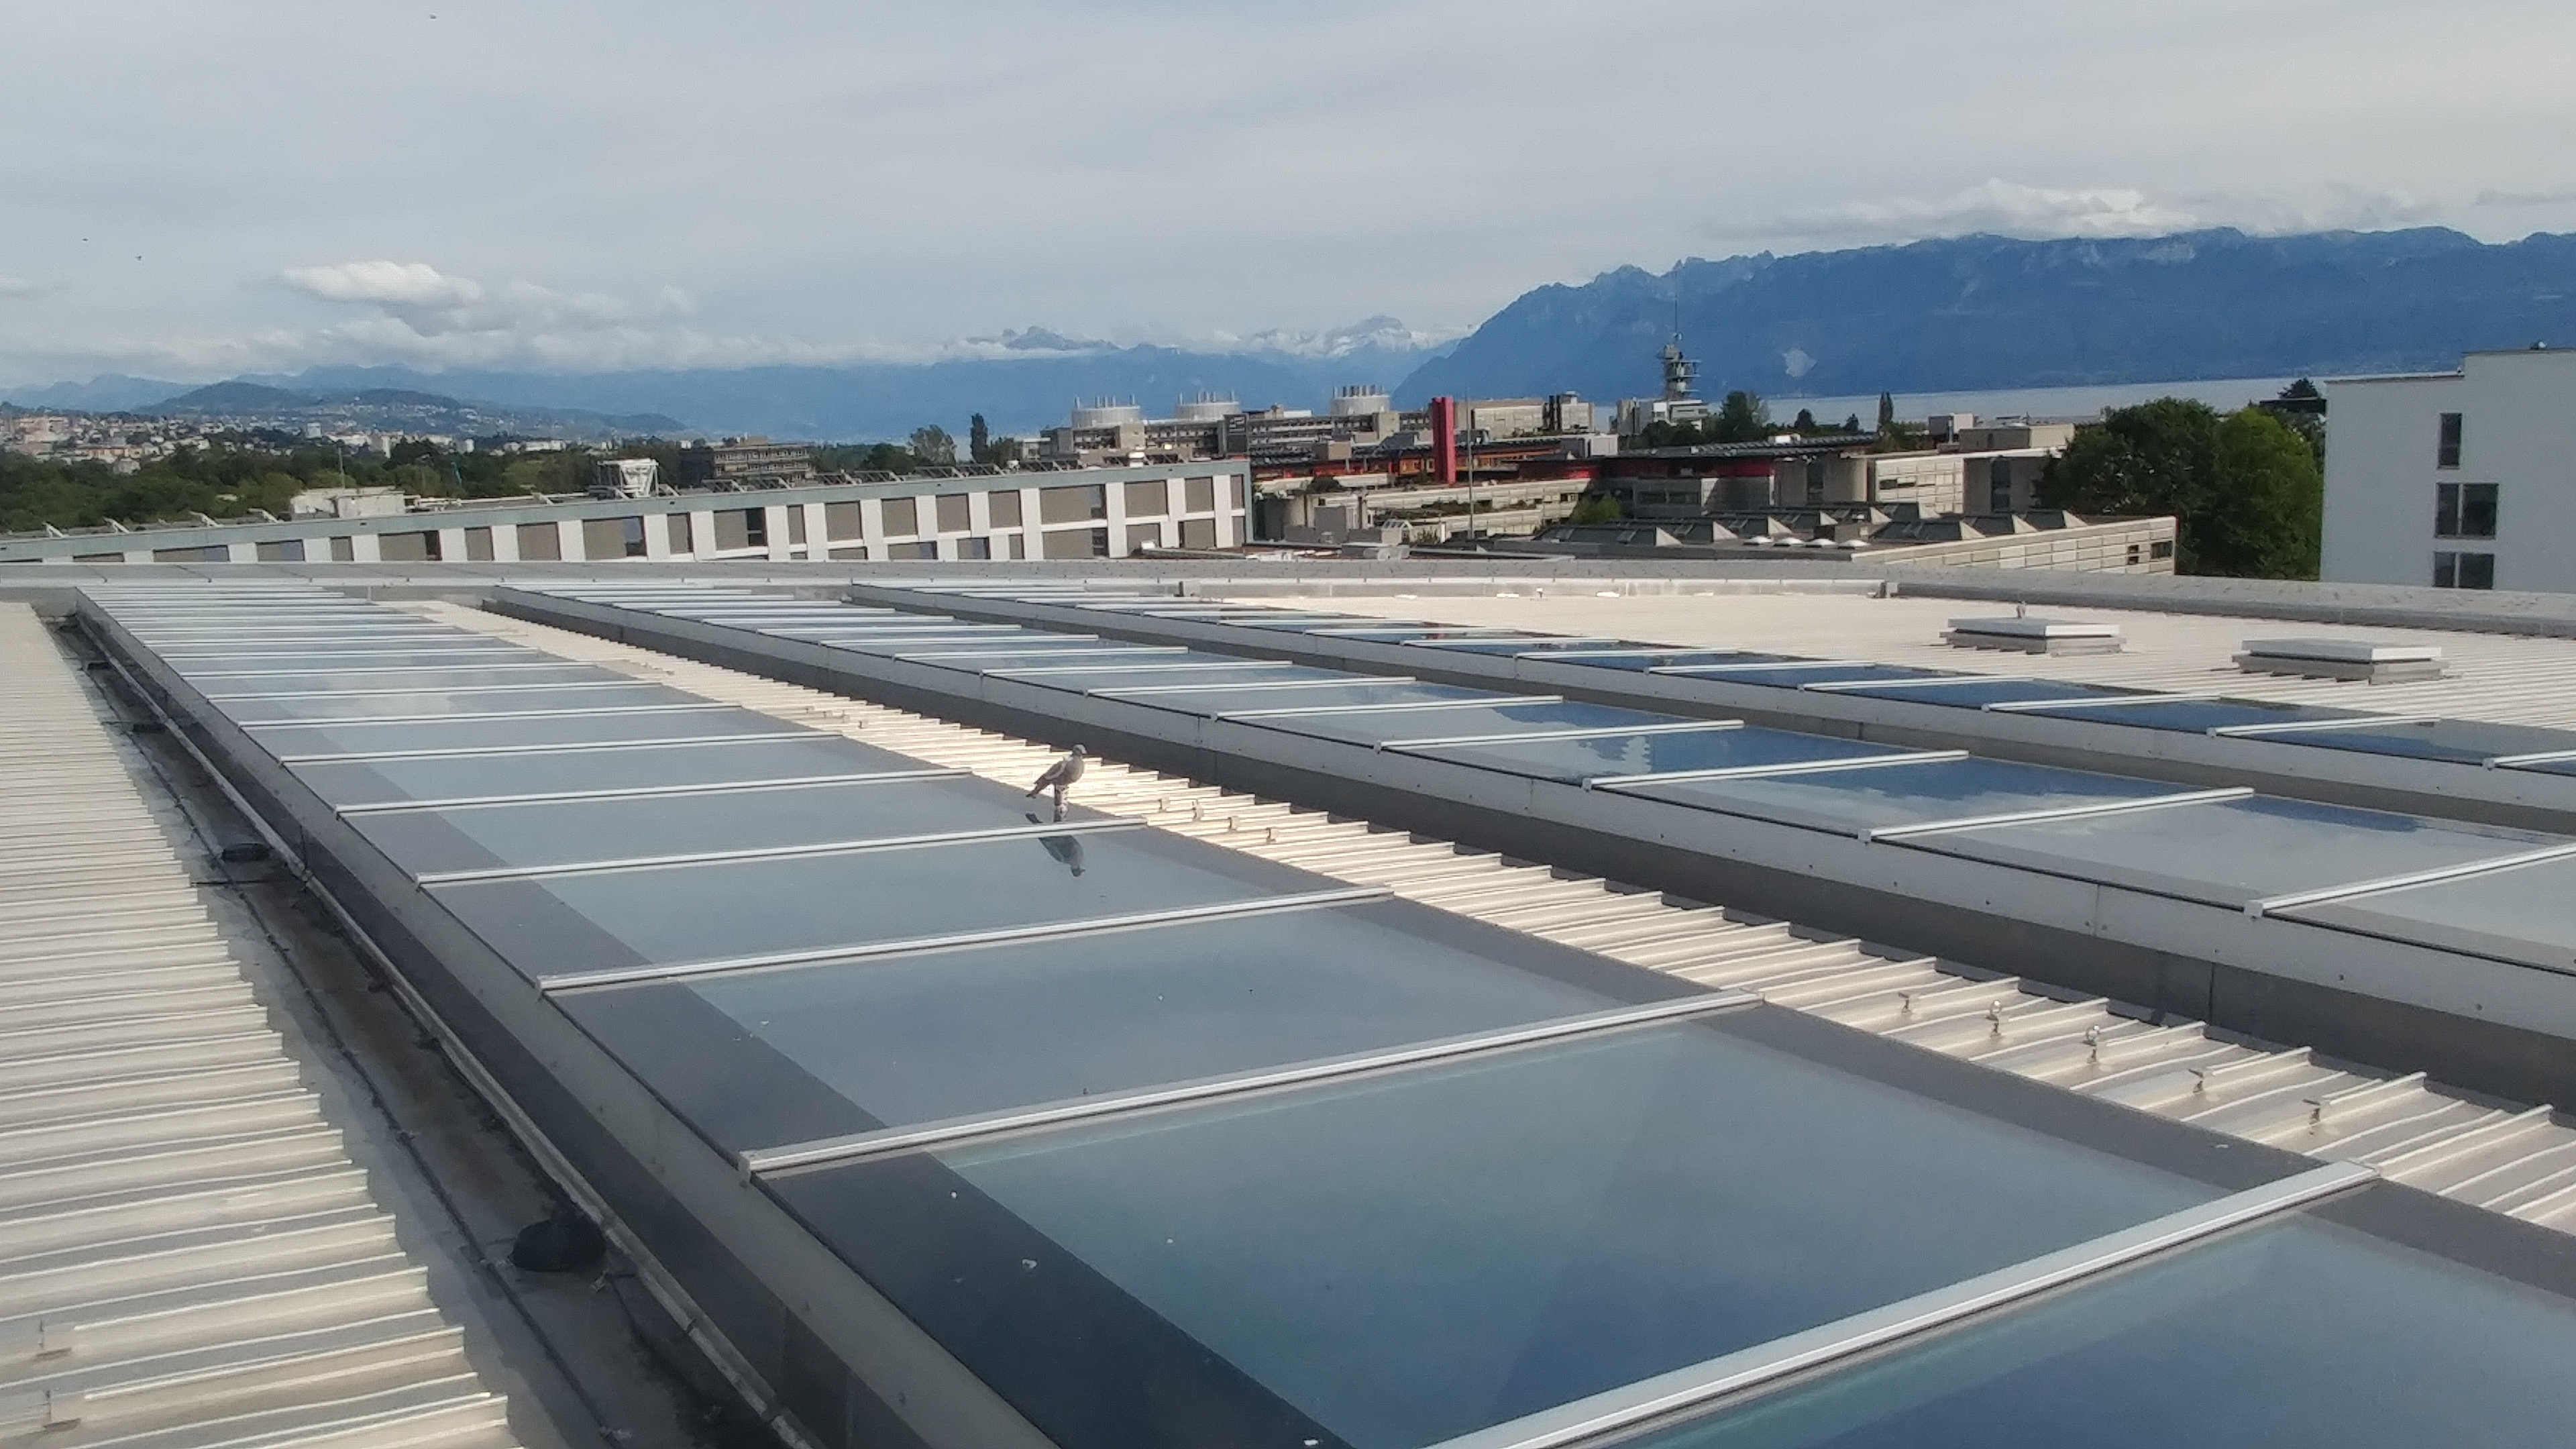Pigeon: (1021, 741, 1099, 814)
